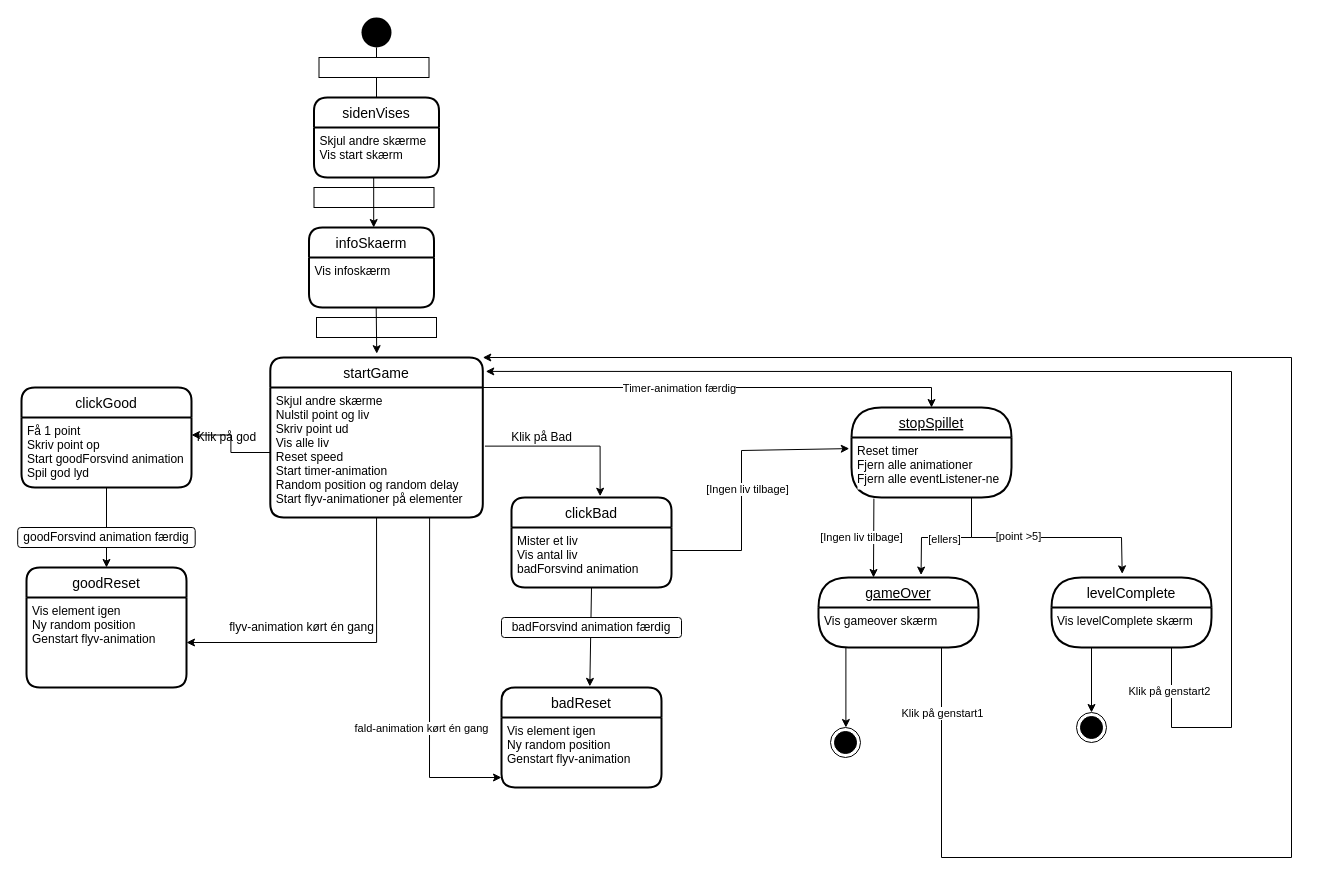
Some shapes in this 1317 by 883 pixel diagram are drawn without their labels. The shapes that lost their labels are listed below. From the top down, each one's centre as x and y in pixels, then its label:
point 373,67: window load
point 373,197: klik på start_knap
point 376,327: Klik på playknap
